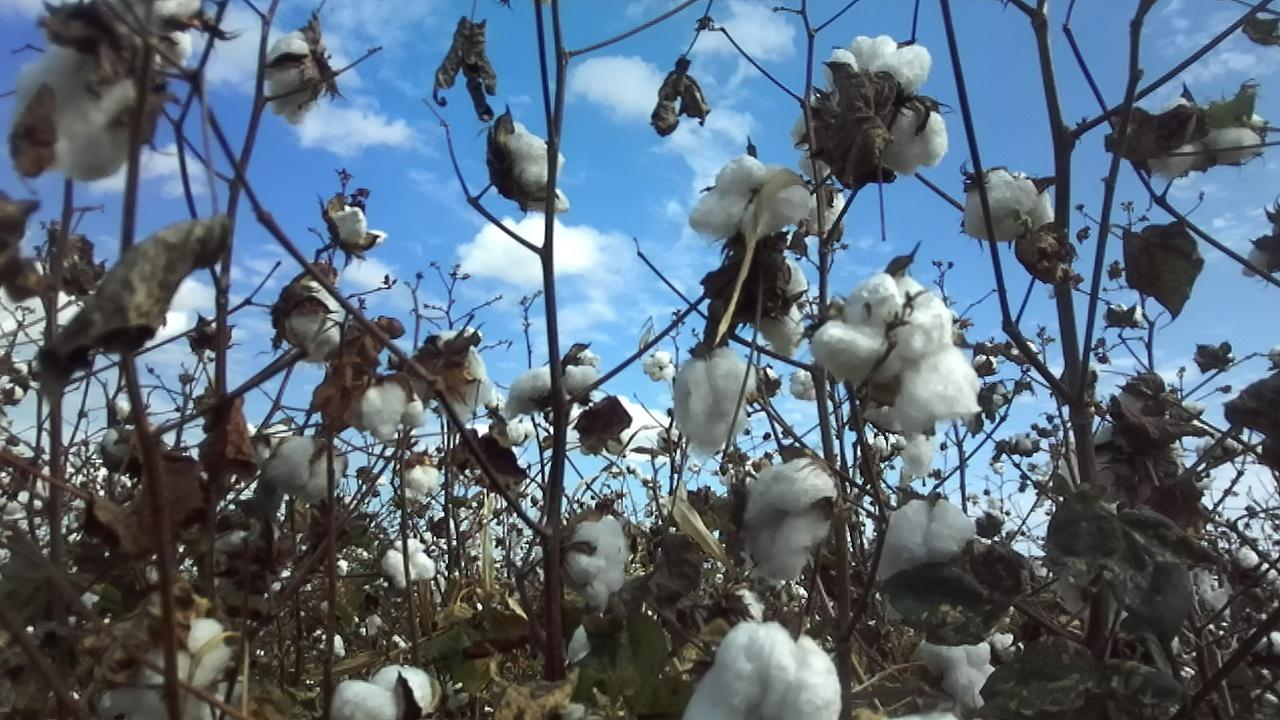cotton_ready: (809, 274, 984, 434), (19, 38, 155, 180), (681, 620, 845, 720), (103, 619, 234, 720), (796, 93, 950, 177), (742, 457, 841, 585), (1144, 97, 1269, 174), (690, 157, 808, 237), (873, 497, 974, 589), (672, 349, 759, 452), (960, 167, 1057, 242), (563, 512, 629, 615), (497, 121, 570, 212), (333, 657, 435, 720), (259, 28, 325, 124), (1060, 426, 1138, 504), (265, 433, 347, 505), (826, 36, 932, 90), (918, 640, 997, 712), (429, 330, 492, 415), (497, 367, 597, 420), (120, 0, 202, 64), (762, 261, 808, 364), (360, 382, 432, 445), (285, 285, 344, 360), (800, 185, 845, 242), (1105, 382, 1160, 425), (332, 205, 387, 247)
